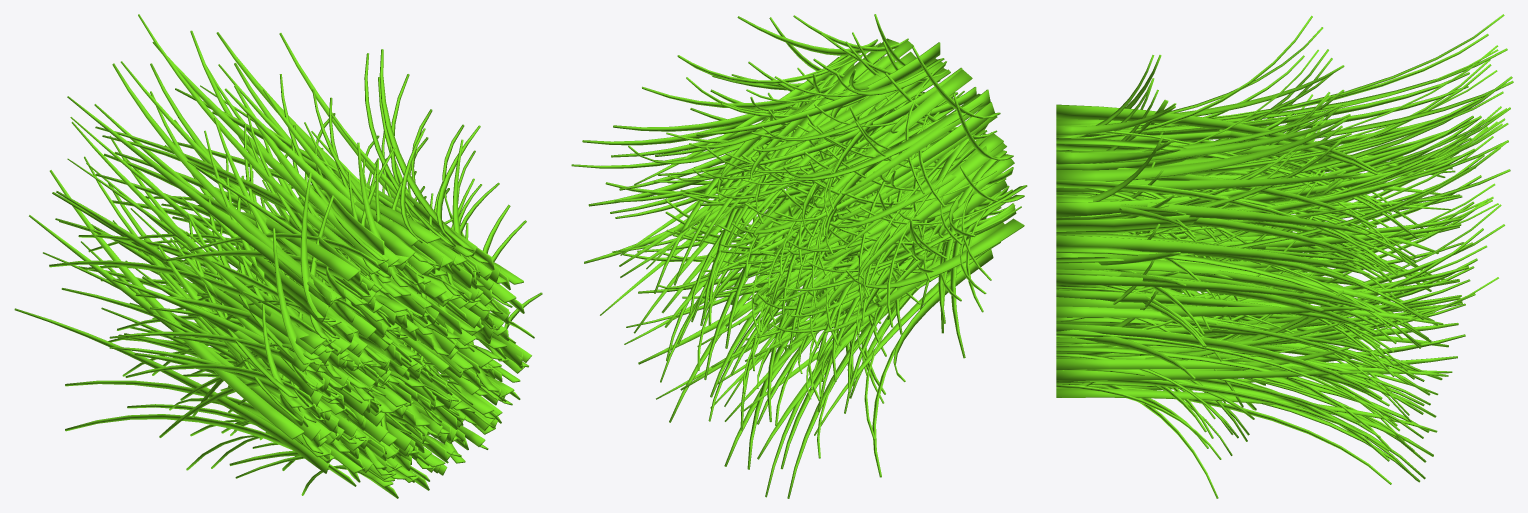
The model's file is GrassLarge.fbx.
The picture shows the model from 3 angles, left to right: view 1: azimuth 30°, elevation 25°; view 2: azimuth 150°, elevation 25°; view 3: azimuth 270°, elevation 25°; orthographic projection. The views are drawn at different scales.
Parts seen in each view (by area): view 1: Moss; view 2: Moss; view 3: Moss.
Boxes of the visible parts, x1,y1,x2,y2 form: Moss: [14, 14, 542, 498]; Moss: [571, 14, 1027, 498]; Moss: [1056, 14, 1513, 498].
Size of the model in its own units: 336 by 341 by 316.
